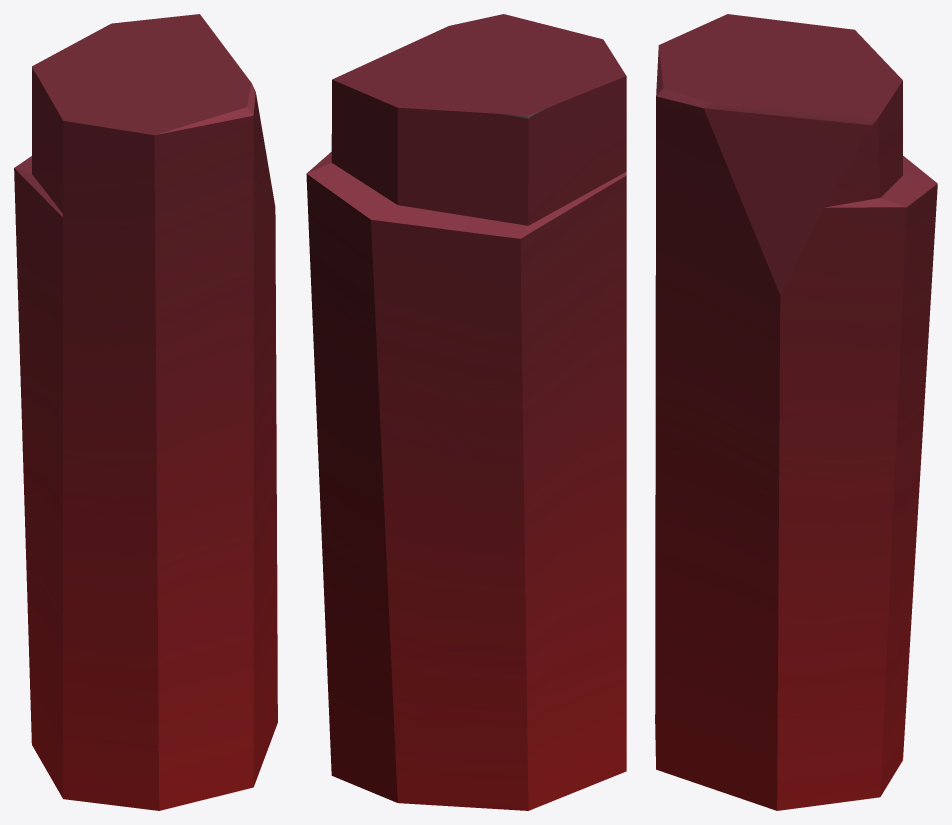
The model's file is stone_001.fbx.
3 renders of one model, left to right at view 1: azimuth 30°, elevation 25°; view 2: azimuth 150°, elevation 25°; view 3: azimuth 270°, elevation 25°, orthographic. The views are drawn at different scales.
Parts seen in each view (by area): view 1: stone_001; view 2: stone_001; view 3: stone_001.
Boxes of the visible parts, left/top/right/bottom form: stone_001: left=14, top=14, right=277, bottom=810; stone_001: left=306, top=14, right=626, bottom=810; stone_001: left=655, top=14, right=937, bottom=810.
Size of the model in its own units: 148 by 402 by 151.
